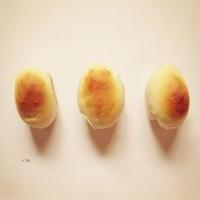biodegradable: (76, 63, 126, 130), (144, 62, 190, 130), (13, 68, 59, 130)
